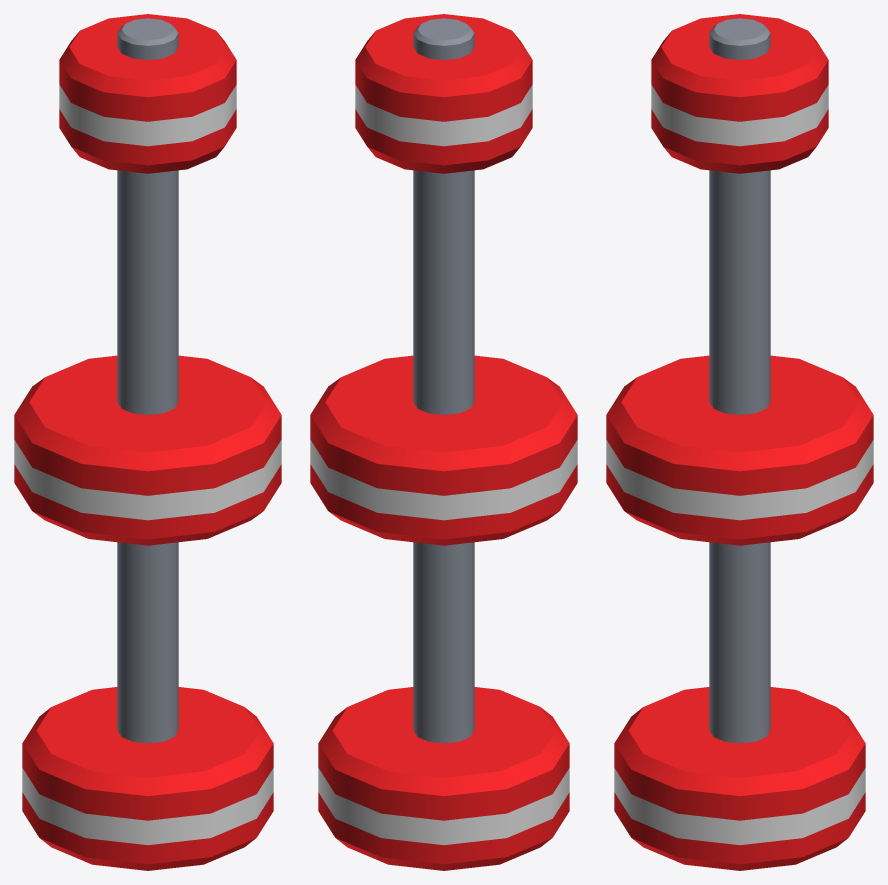
File: Column_S_1.glb
The picture shows the model from 3 angles, left to right: view 1: azimuth 30°, elevation 25°; view 2: azimuth 150°, elevation 25°; view 3: azimuth 270°, elevation 25°; orthographic projection.
Parts seen in each view (by area): view 1: Column_S_1; view 2: Column_S_1; view 3: Column_S_1.
Boxes of the visible parts, <box> form: Column_S_1: <box>14,14,281,870</box>; Column_S_1: <box>310,14,577,870</box>; Column_S_1: <box>606,14,873,870</box>.
Bounding box in the file's own units: 0.9362 × 3.07 × 0.9362.
Materials: 2 (2 with a texture image).
